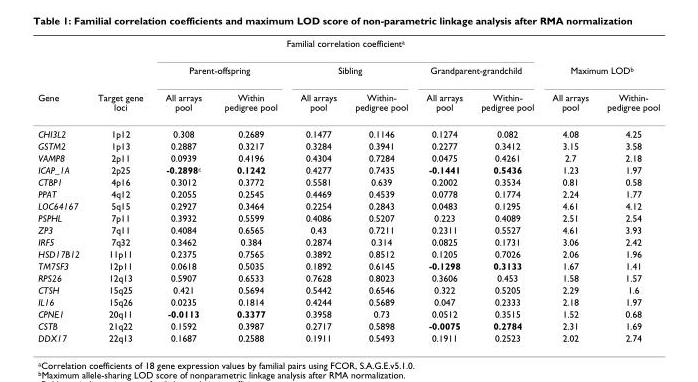table: (37, 37, 659, 342)
table column: (212, 37, 288, 342), (345, 37, 416, 342), (471, 37, 542, 342), (87, 37, 153, 342), (597, 37, 659, 342), (153, 37, 212, 342), (288, 37, 345, 342), (416, 37, 471, 342), (542, 37, 597, 342), (37, 37, 87, 342)
table column header: (37, 37, 659, 120)
table row: (37, 83, 659, 120), (37, 56, 659, 83), (37, 37, 659, 56), (37, 120, 659, 139), (37, 139, 659, 151), (37, 151, 659, 163), (37, 163, 659, 175), (37, 175, 659, 187), (37, 187, 659, 199), (37, 199, 659, 211), (37, 211, 659, 223), (37, 223, 659, 235), (37, 235, 659, 247), (37, 247, 659, 259), (37, 259, 659, 271), (37, 271, 659, 283), (37, 283, 659, 295), (37, 295, 659, 307), (37, 307, 659, 319), (37, 319, 659, 331), (37, 331, 659, 342)
table spanning cell: (153, 37, 542, 56), (87, 37, 153, 120), (37, 37, 87, 120), (153, 56, 288, 83), (288, 56, 416, 83), (416, 56, 542, 83), (542, 56, 659, 83)
